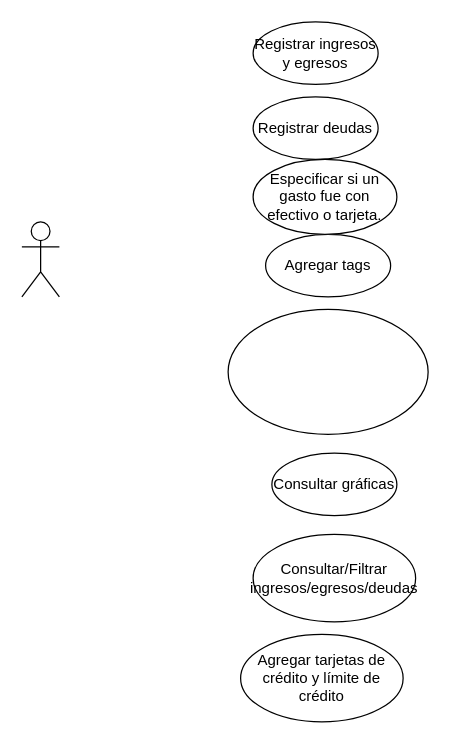
This 450x744 diagram has some shape labels left out. Here are the shapes that lost their labels. From the top down, the centre of each, then its label:
At point 40,259: "user".
At point 327,371: "Configurar la periodicidad de envío de correos con balance de cuenta y deudas".
